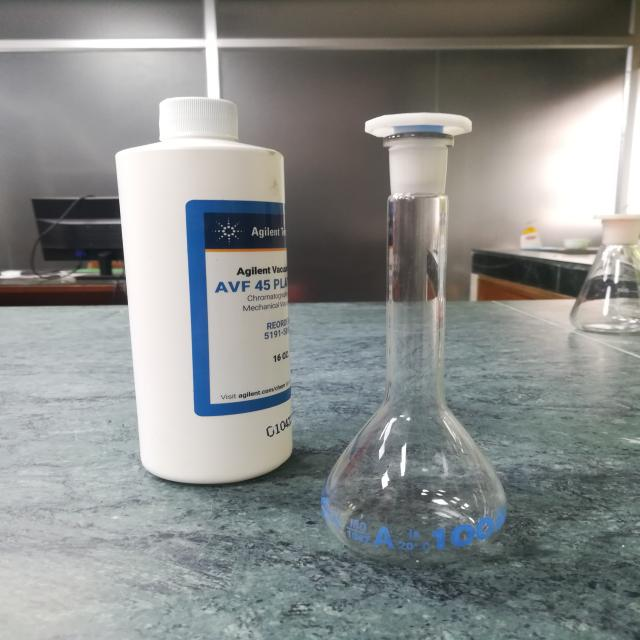Volumetric_Flask: (301, 74, 535, 576)
